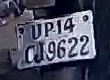1: (55, 17, 63, 36)
2: (67, 36, 79, 60), (78, 34, 90, 57)
4: (63, 16, 76, 36)
6: (55, 36, 67, 61)
9: (46, 39, 57, 62)
C: (22, 42, 35, 66)
J: (34, 41, 45, 63)
P: (43, 21, 52, 38)
U: (30, 22, 43, 41)
